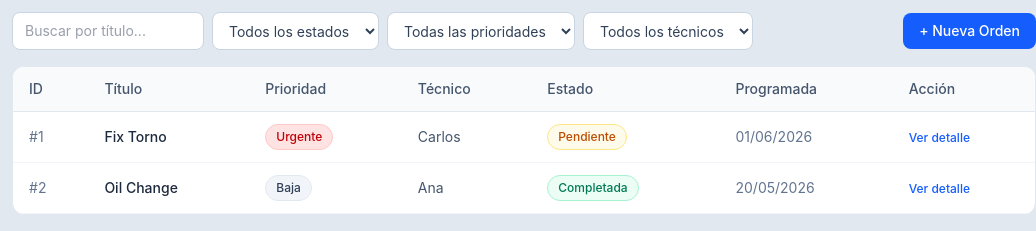
Test case: WorkOrders page › filters by status
expect the number of rows is 3: met, box [13, 67, 1035, 112]; [13, 112, 1035, 162]; [13, 162, 1035, 214]
Select "Completada" in the 1st dropdown at x=296, y=31, box [212, 12, 379, 50]
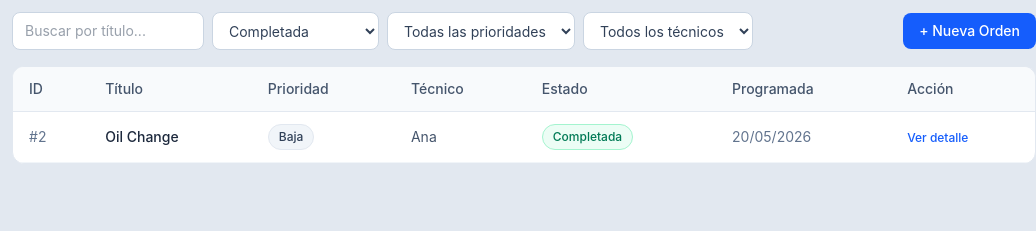
expect the text "Oil Change" is shown: met, box [89, 112, 252, 162]
expect the text "Fix Torno" is gone: met
